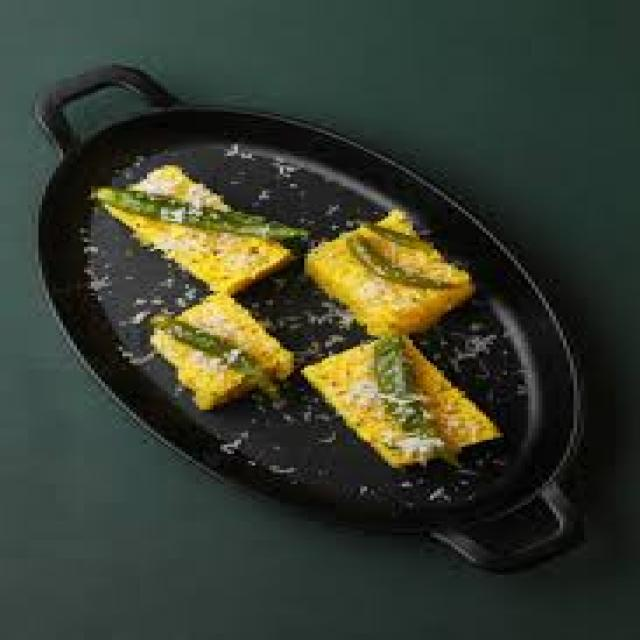DHOKLA: (94, 165, 287, 293), (308, 340, 497, 465), (308, 209, 472, 333), (150, 293, 290, 407)
